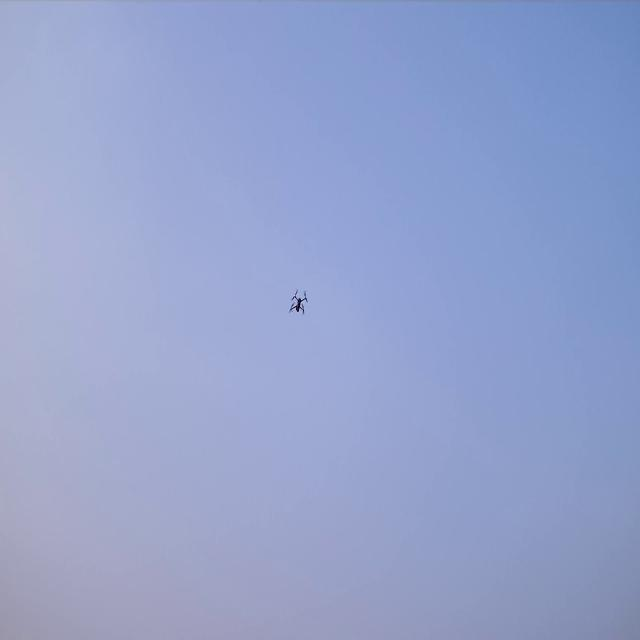UAV: (288, 288, 309, 316)
